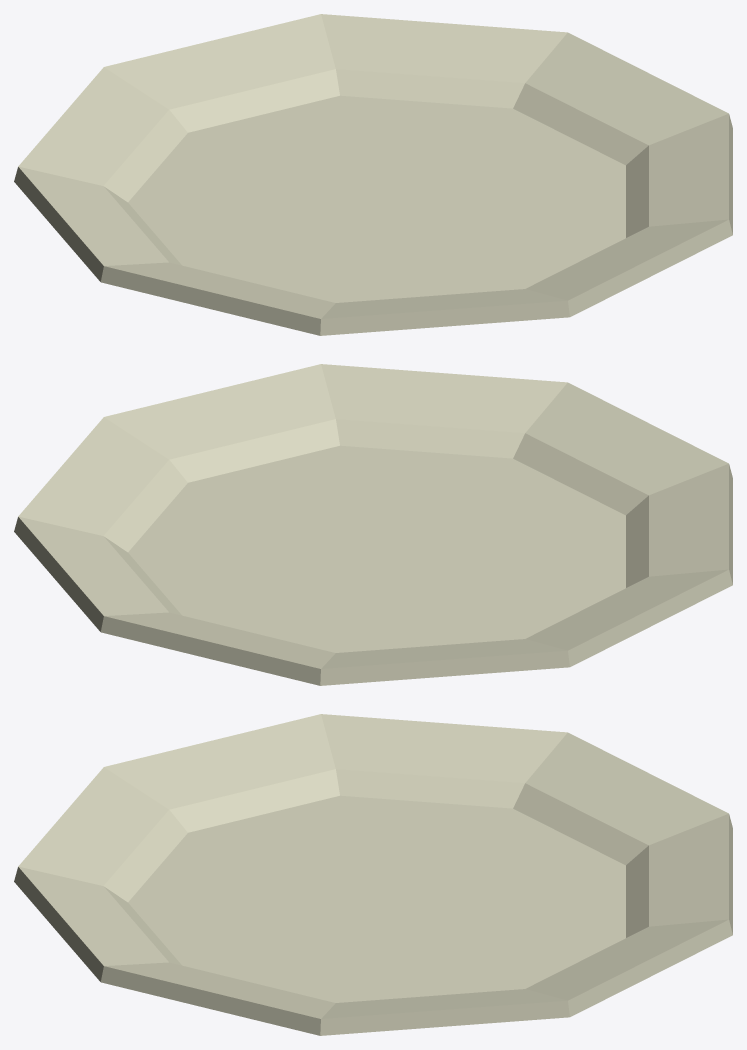
File: Plate.fbx
The picture shows the model from 3 angles, top to bottom: view 1: azimuth 30°, elevation 25°; view 2: azimuth 150°, elevation 25°; view 3: azimuth 270°, elevation 25°; orthographic projection.
Parts seen in each view (by area): view 1: Plate; view 2: Plate; view 3: Plate.
Boxes of the visible parts, x1,y1,x2,y2 form: Plate: [14, 14, 732, 335]; Plate: [14, 364, 732, 685]; Plate: [14, 714, 732, 1035].
Bounding box in the file's own units: 0.4412 × 0.4345 × 0.0337.
